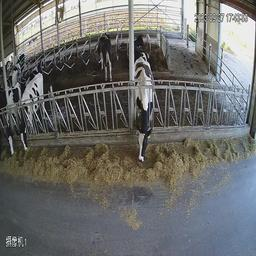cow: (134, 53, 158, 174), (18, 70, 42, 156), (94, 22, 122, 89), (2, 74, 17, 162), (136, 29, 156, 63)
